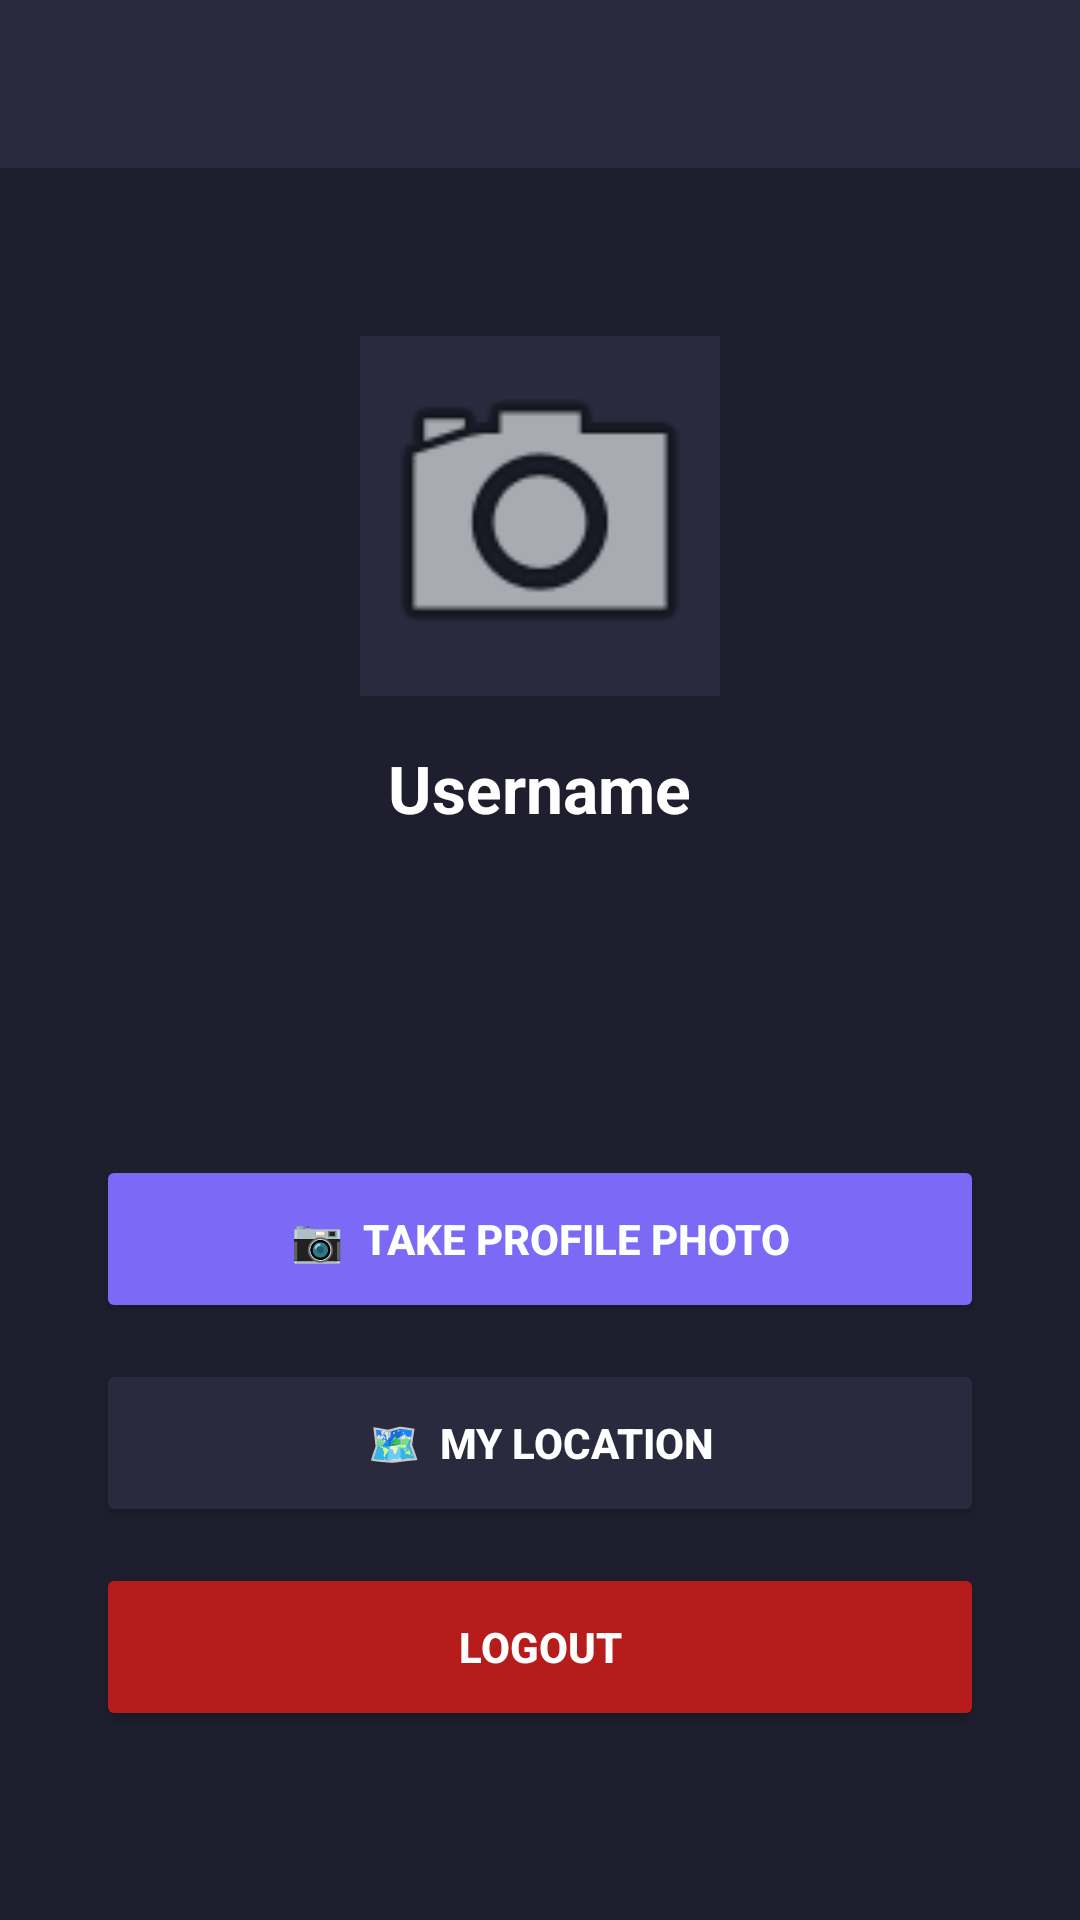

Named icons in this screenshot (1080px×1920px) and their centers, (x=x, y=y):
camera: (x=540, y=510)
